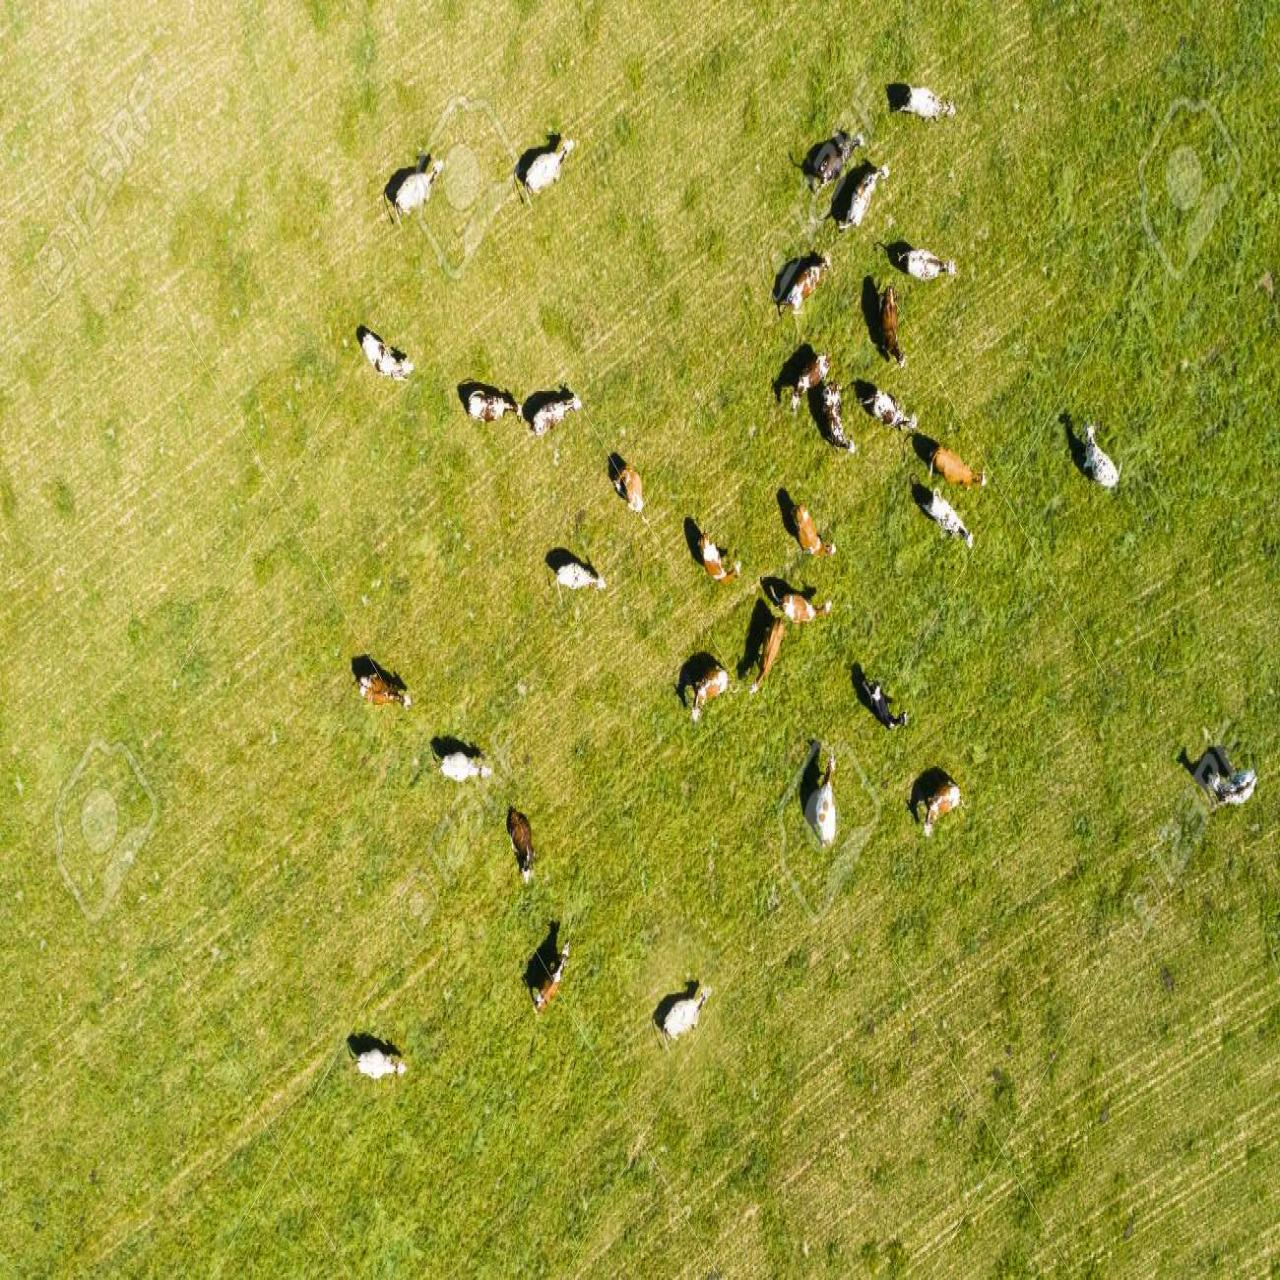cow: (1201, 708, 1268, 828), (905, 484, 986, 576), (776, 226, 837, 343), (835, 151, 906, 245), (845, 655, 915, 749), (772, 332, 828, 449), (509, 114, 578, 205), (740, 608, 791, 722), (926, 428, 1001, 505), (863, 265, 919, 368), (681, 501, 737, 598), (801, 114, 865, 198), (802, 728, 844, 856), (858, 370, 920, 456), (911, 763, 978, 842), (1076, 415, 1131, 509), (894, 53, 961, 129), (888, 241, 967, 305), (354, 648, 418, 722), (660, 972, 716, 1051), (791, 492, 844, 576), (454, 379, 522, 442), (531, 937, 581, 1021), (502, 795, 546, 888), (383, 152, 447, 218), (605, 438, 653, 524), (681, 655, 736, 728), (819, 365, 856, 470), (545, 542, 606, 598), (434, 743, 497, 795), (533, 382, 578, 449), (774, 583, 836, 628), (359, 332, 415, 381), (353, 1040, 410, 1085)
